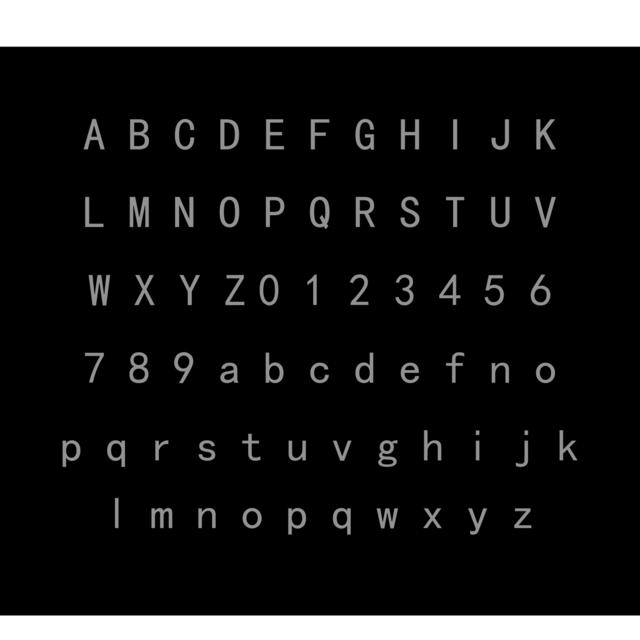alphabet: (89, 274, 112, 306), (178, 273, 201, 305), (533, 196, 555, 229), (135, 272, 156, 306), (174, 119, 195, 152), (309, 197, 330, 230), (173, 350, 194, 383), (130, 118, 150, 152), (489, 196, 510, 228), (354, 118, 374, 151), (535, 118, 555, 151), (399, 196, 419, 229), (220, 197, 241, 228), (130, 196, 150, 228), (174, 196, 194, 228), (446, 196, 466, 228), (354, 352, 374, 384), (130, 351, 150, 383), (219, 119, 238, 152), (86, 352, 106, 383), (266, 196, 285, 228), (266, 119, 285, 151), (309, 120, 329, 150), (355, 197, 374, 228), (266, 352, 285, 383), (86, 119, 104, 151), (106, 440, 126, 468), (425, 430, 442, 462), (441, 274, 459, 304), (403, 119, 420, 150), (467, 508, 486, 535), (376, 508, 398, 530), (152, 508, 174, 529), (242, 508, 262, 529), (219, 363, 238, 385), (199, 438, 217, 461), (399, 361, 418, 382), (491, 363, 510, 384), (199, 508, 217, 530), (334, 439, 352, 461)
